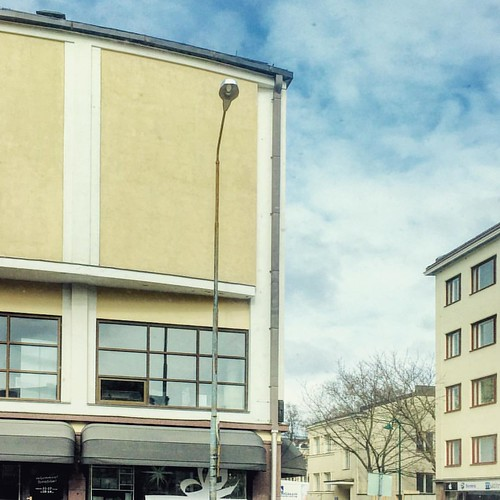building: (1, 28, 290, 500), (429, 235, 500, 500), (277, 391, 435, 500)
light pole: (198, 84, 256, 500)
sky: (290, 1, 435, 413)
tree: (316, 355, 432, 500)
